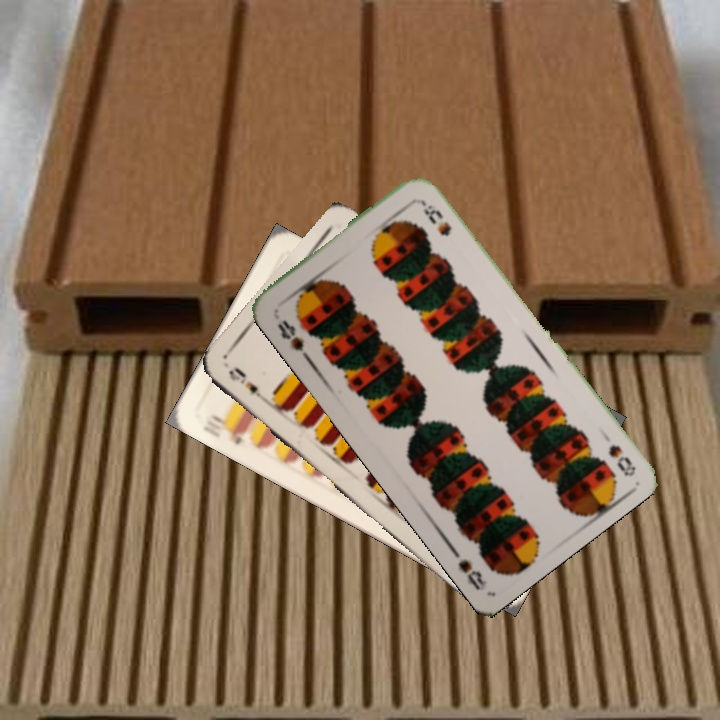E10: (198, 410, 249, 448)
E9: (224, 363, 271, 406)
S8: (273, 316, 311, 361), (604, 440, 639, 479)
